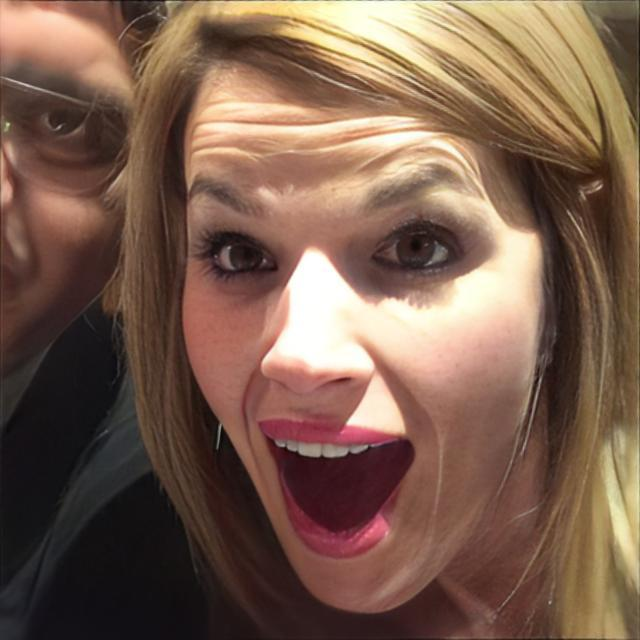surprise: (180, 36, 558, 619), (0, 2, 146, 380)
